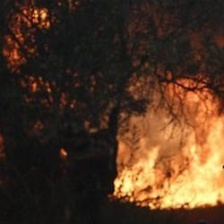fire: (97, 52, 224, 209)
